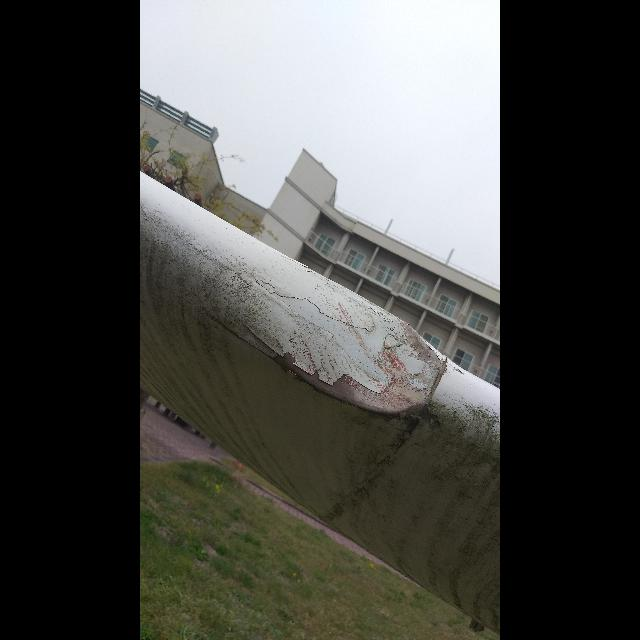dent: (312, 284, 446, 418)
